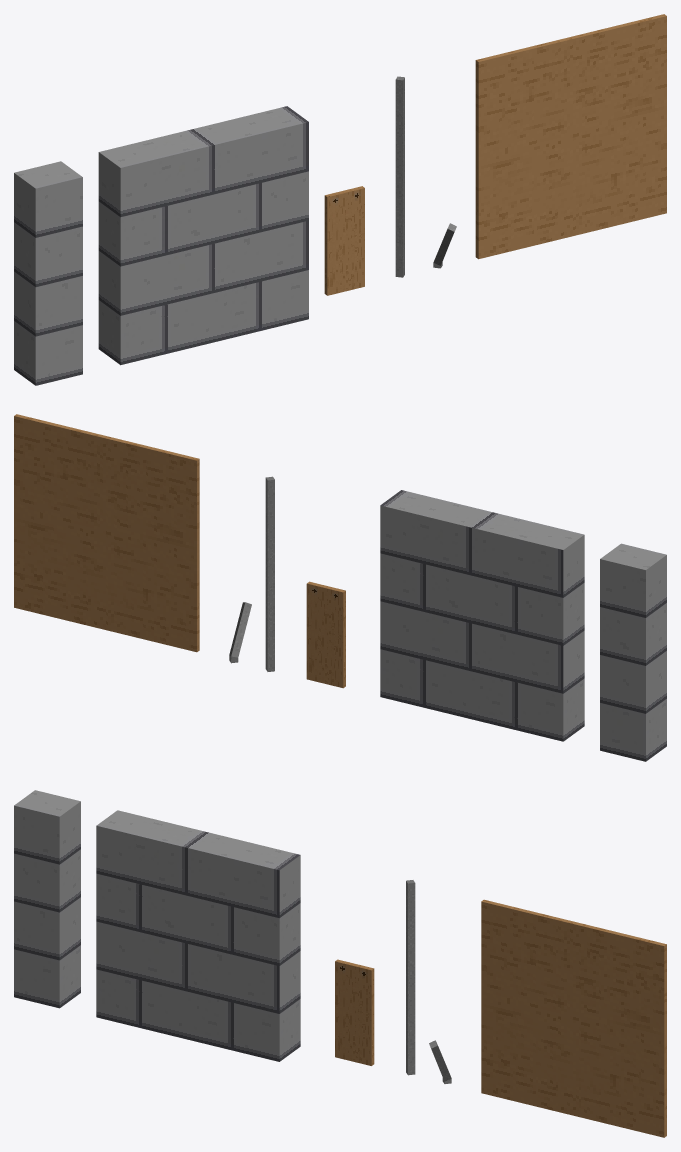
Rendered from BuildingParts.fbx.
3 renders of one model, top to bottom at view 1: azimuth 30°, elevation 25°; view 2: azimuth 150°, elevation 25°; view 3: azimuth 330°, elevation 25°, orthographic. The views are drawn at different scales.
Visible parts, largest first — view 1: BrickWall, BrickWall.001, BrickPillar, Cube, FencePost; view 2: BrickWall, BrickWall.001, BrickPillar, Cube, FencePost, FencePostTop; view 3: BrickWall, BrickWall.001, BrickPillar, Cube, FencePost.
Boxes of the visible parts, left/top/right/bottom form: BrickWall: left=98, top=106, right=308, bottom=365; BrickWall.001: left=475, top=14, right=666, bottom=259; BrickPillar: left=14, top=161, right=82, bottom=385; Cube: left=324, top=186, right=364, bottom=295; FencePost: left=395, top=76, right=404, bottom=277; BrickWall: left=380, top=490, right=584, bottom=741; BrickWall.001: left=14, top=414, right=199, bottom=652; BrickPillar: left=600, top=543, right=666, bottom=761; Cube: left=306, top=581, right=345, bottom=688; FencePost: left=265, top=476, right=274, bottom=671; FencePostTop: left=229, top=602, right=251, bottom=663; BrickWall: left=96, top=810, right=300, bottom=1061; BrickWall.001: left=481, top=899, right=666, bottom=1137; BrickPillar: left=14, top=790, right=80, bottom=1008; Cube: left=335, top=959, right=374, bottom=1065; FencePost: left=406, top=880, right=415, bottom=1075.
Size of the model in its own units: 3.45 by 0.225 by 1.
